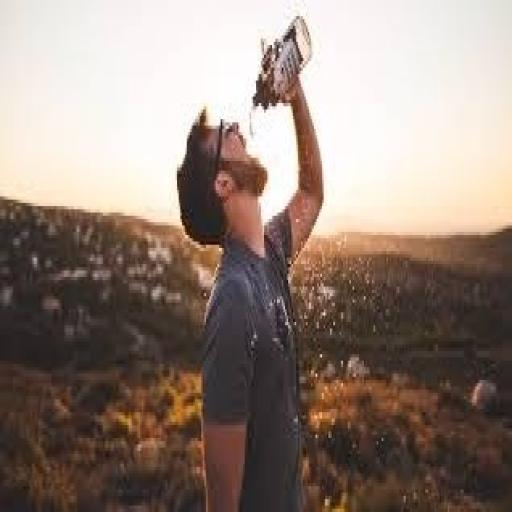drinking: (109, 2, 340, 512)
